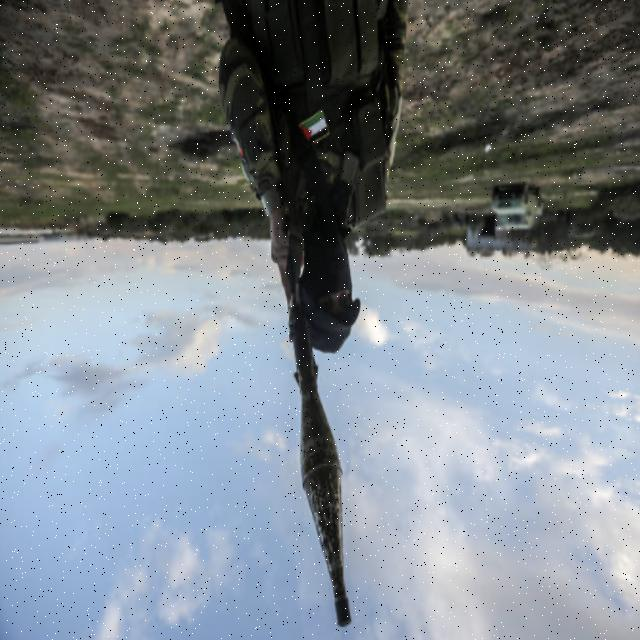bazooka: (256, 164, 387, 632)
